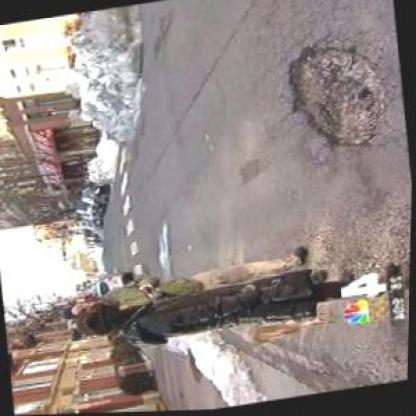pothole: (277, 33, 390, 158)
